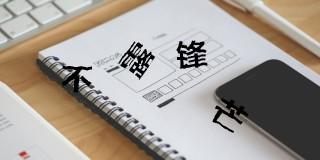不: (62, 64, 93, 92)
芒: (211, 97, 247, 133)
锋: (176, 39, 208, 69)
露: (118, 41, 155, 79)
